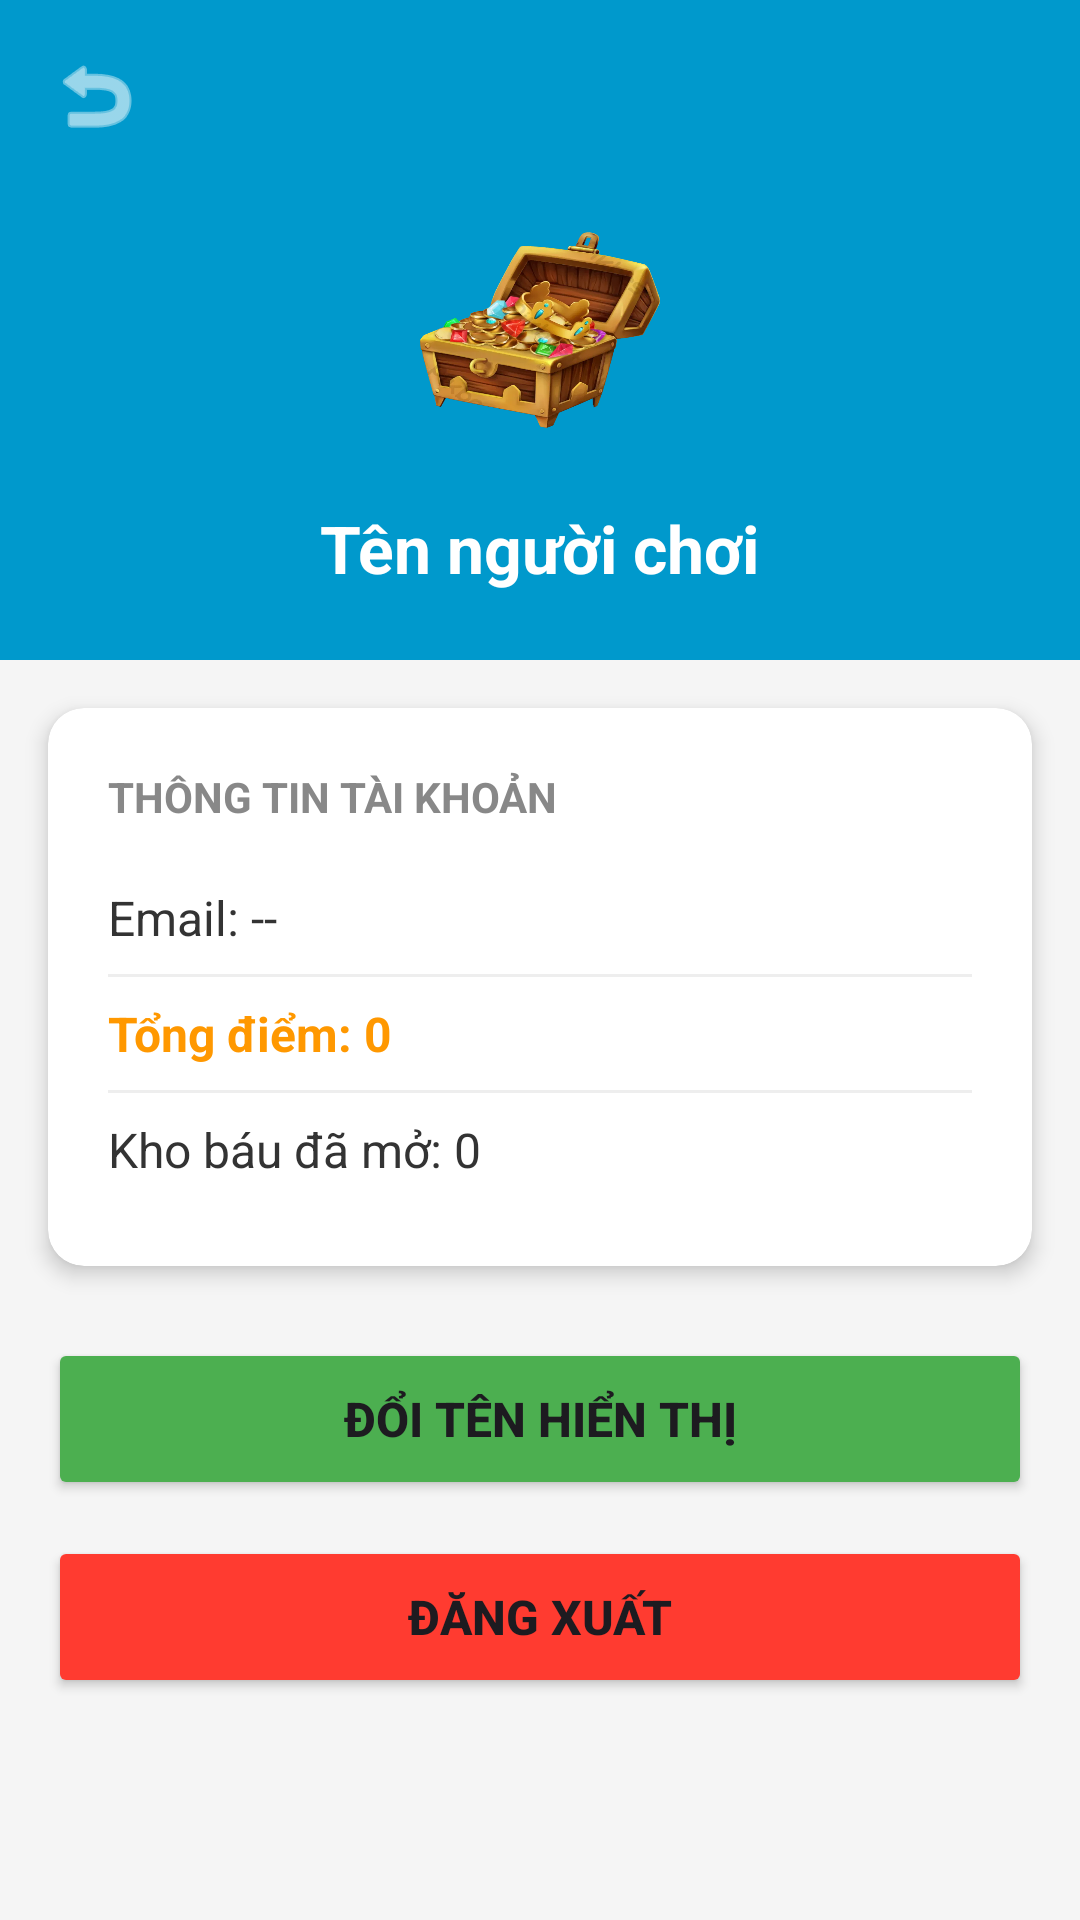

Where to tap for icons on this 1080 x 1920 app screen, as [x,y]:
Quay lại: [97,96]
